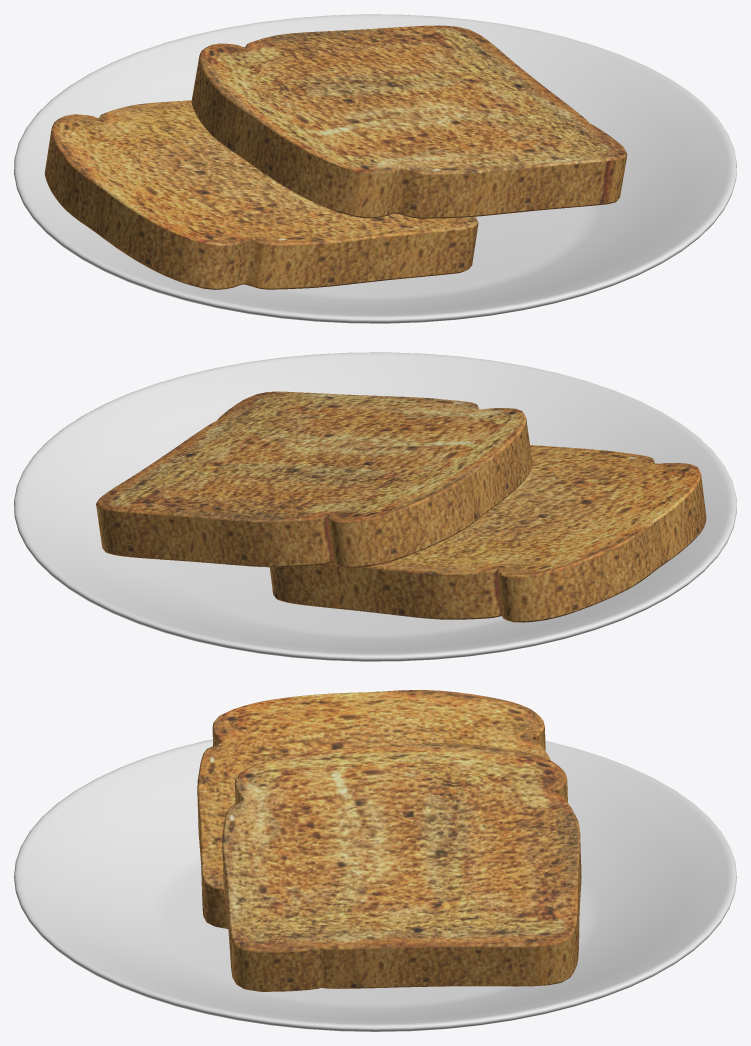
3 views of the same model, one above another, from view 1: azimuth 30°, elevation 25°; view 2: azimuth 150°, elevation 25°; view 3: azimuth 270°, elevation 25° (orthographic).
Visible parts, largest first — view 1: Toasts; view 2: Toasts; view 3: Toasts.
Part boxes in pixels (x1,y1,x2,y2): Toasts: (14, 14, 736, 323); Toasts: (14, 352, 736, 661); Toasts: (14, 690, 736, 1031).
Bounding box in the file's own units: 0.2595 × 0.0507 × 0.2595.
1 material, 1 textured.
